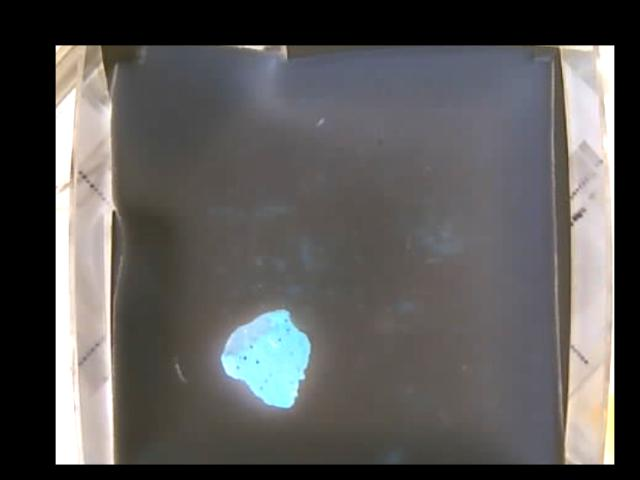Brisk: (222, 309, 307, 405)
